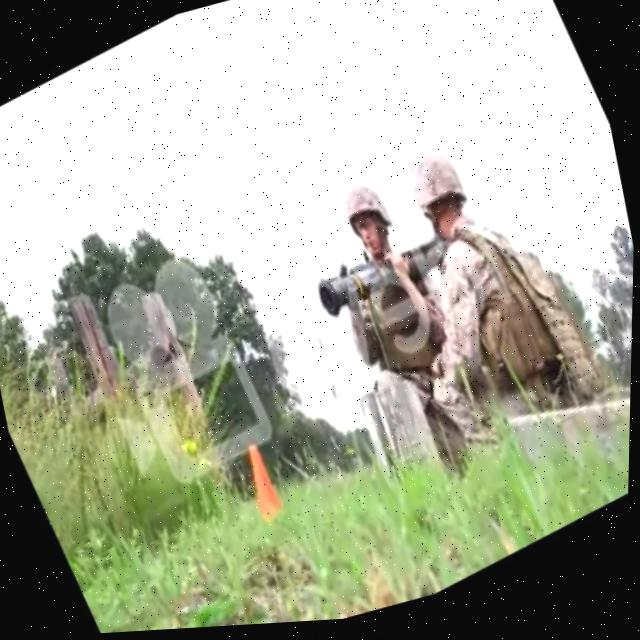rocket: (307, 226, 449, 327)
